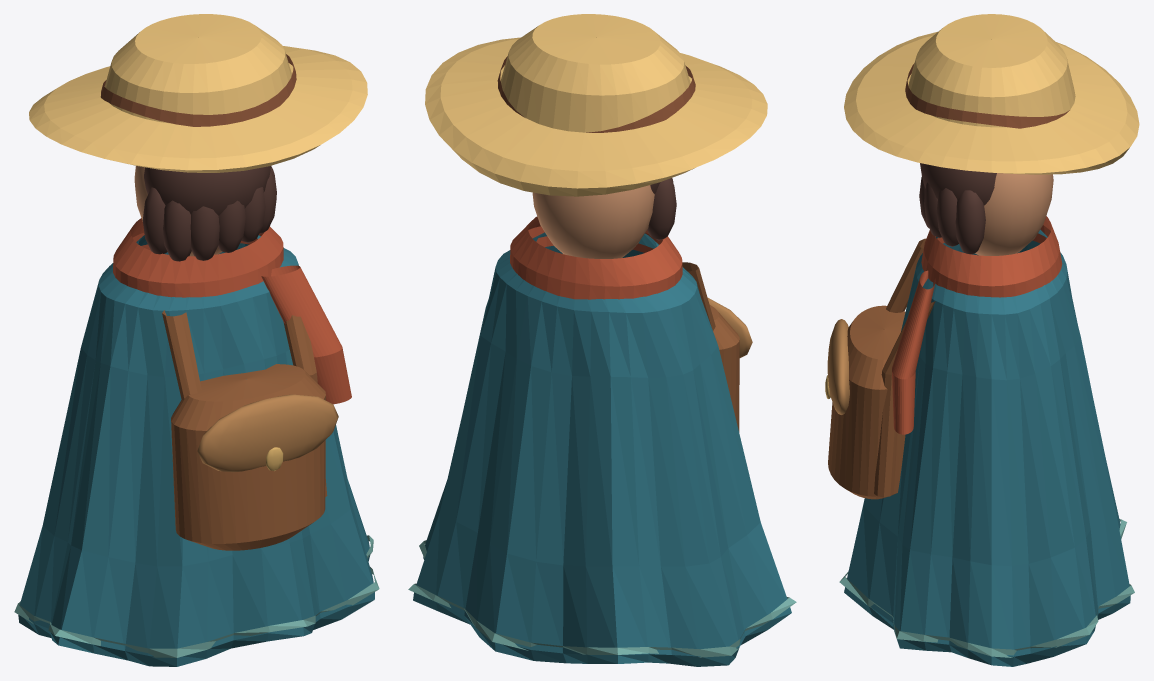
File: traveller.glb
3 views of the same model, side by side, from view 1: azimuth 30°, elevation 25°; view 2: azimuth 150°, elevation 25°; view 3: azimuth 270°, elevation 25° (orthographic). The views are drawn at different scales.
Bounding box in the file's own units: 0.9787 × 1.56 × 0.7861.
